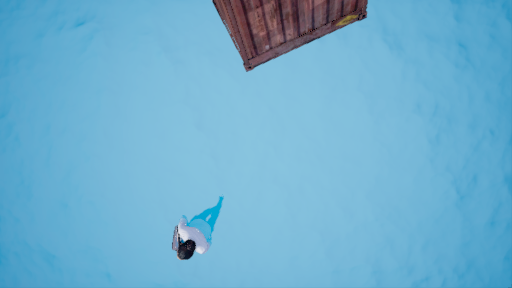person: (162, 201, 235, 266)
